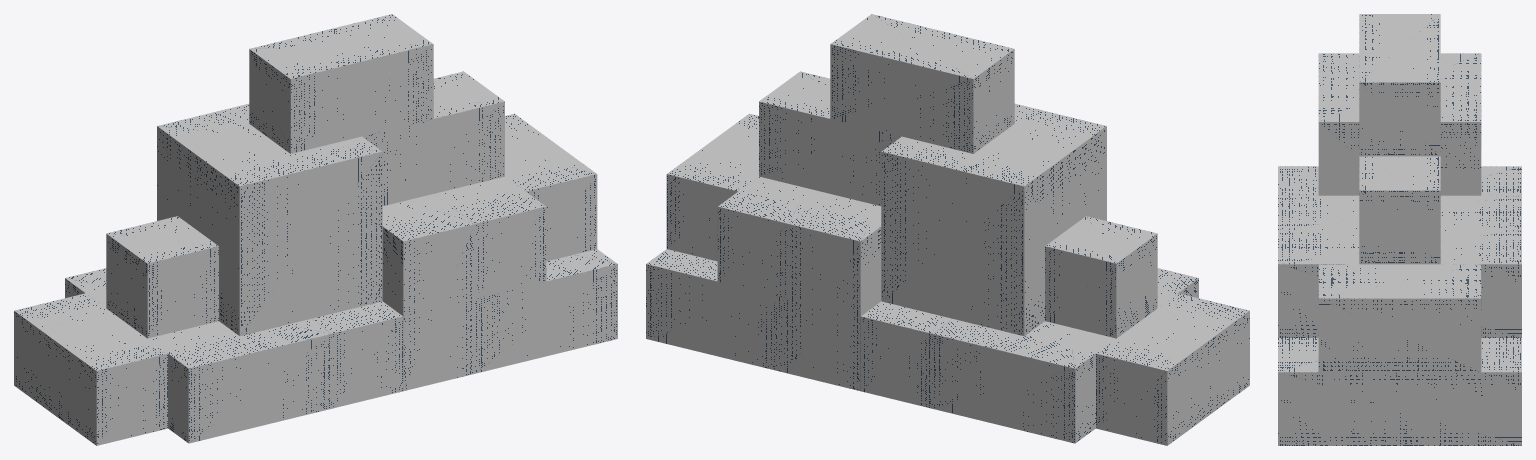
File: stone-02.fbx
3 views of the same model, side by side, from view 1: azimuth 30°, elevation 25°; view 2: azimuth 150°, elevation 25°; view 3: azimuth 270°, elevation 25° (orthographic).
Visible parts, largest first — view 1: generated; view 2: generated; view 3: generated.
Boxes of the visible parts, bbox=[...] form: generated: bbox=[14, 14, 617, 445]; generated: bbox=[646, 14, 1249, 445]; generated: bbox=[1278, 14, 1521, 445].
Size of the model in its own units: 70 by 40 by 30.
Materials: 1 (1 with a texture image).
